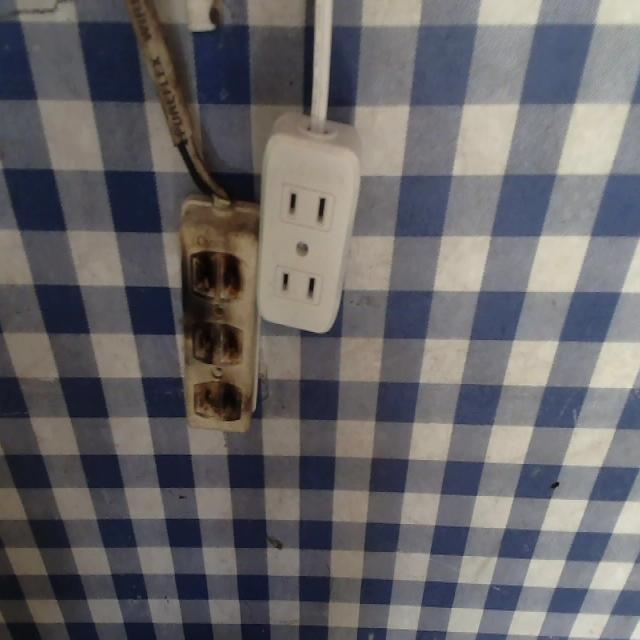-: (178, 235, 243, 305), (187, 314, 254, 370), (190, 379, 245, 428)
